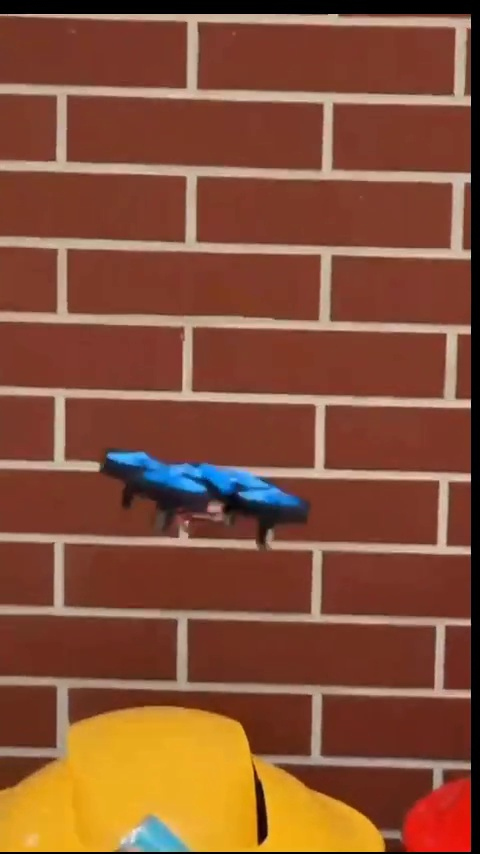drone: (97, 447, 311, 550)
